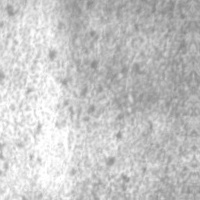pitted_surface: (45, 0, 195, 176), (0, 6, 77, 188)
